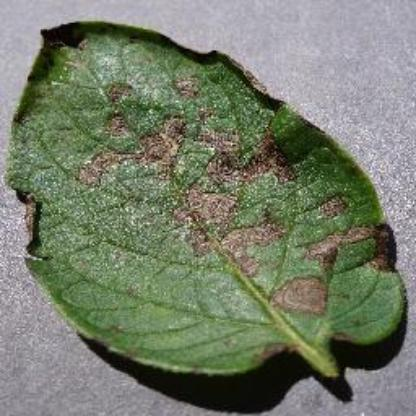Early-Blight: (7, 16, 408, 382)
